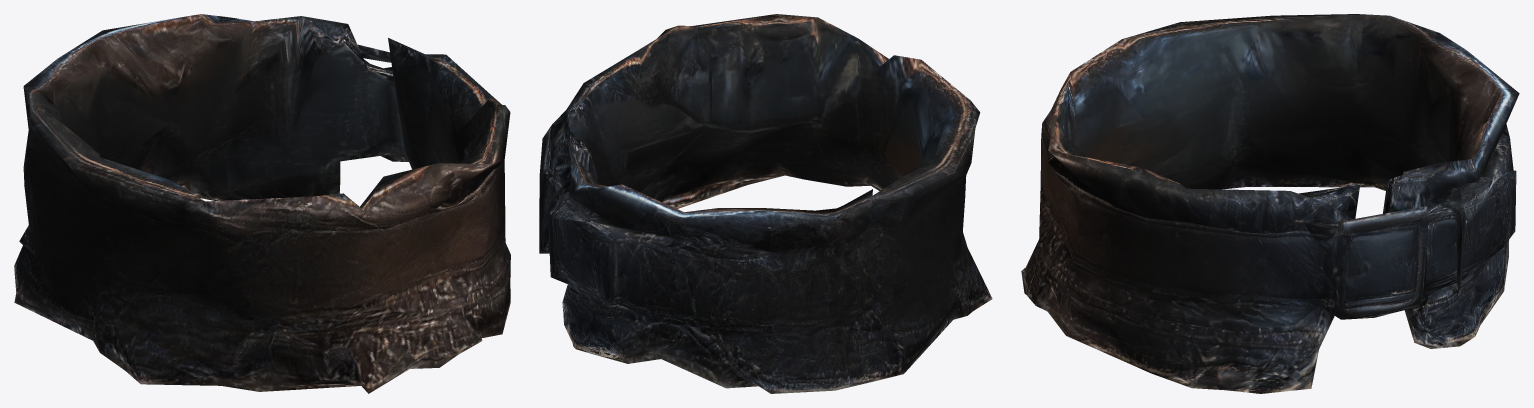
File: waist.glb
3 views of the same model, side by side, from view 1: azimuth 30°, elevation 25°; view 2: azimuth 150°, elevation 25°; view 3: azimuth 270°, elevation 25° (orthographic). The views are drawn at different scales.
Parts seen in each view (by area): view 1: tripo_node_263c2acc-bcf7-411e-a1f7-daa0157557d6; view 2: tripo_node_263c2acc-bcf7-411e-a1f7-daa0157557d6; view 3: tripo_node_263c2acc-bcf7-411e-a1f7-daa0157557d6.
Boxes of the visible parts, x1=… form: tripo_node_263c2acc-bcf7-411e-a1f7-daa0157557d6: x1=14, y1=14, x2=510, y2=393; tripo_node_263c2acc-bcf7-411e-a1f7-daa0157557d6: x1=539, y1=14, x2=992, y2=393; tripo_node_263c2acc-bcf7-411e-a1f7-daa0157557d6: x1=1021, y1=14, x2=1519, y2=393.
Size of the model in its own units: 0.9084 by 0.4622 by 1.
Materials: 1 (1 with a texture image).
